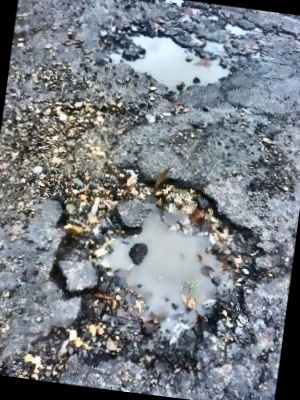pothole: (26, 163, 277, 394), (95, 18, 243, 98)
